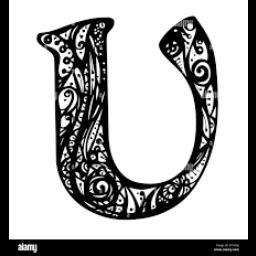u: (32, 8, 232, 222)
